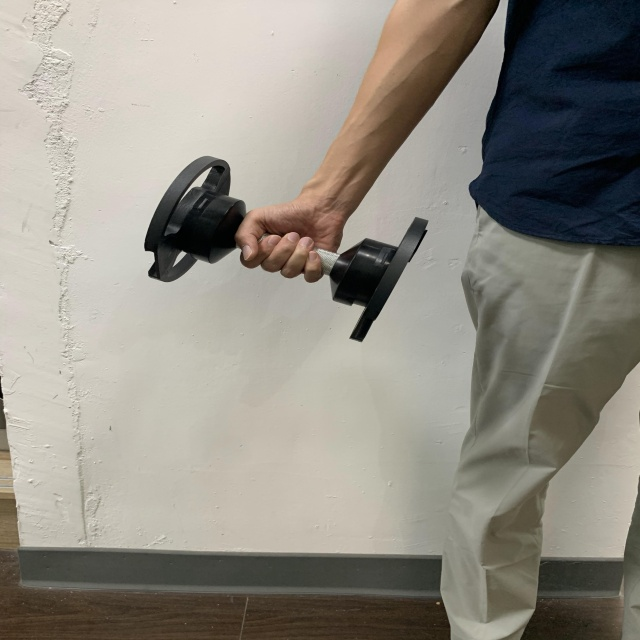01-2kg: (135, 152, 435, 346)
